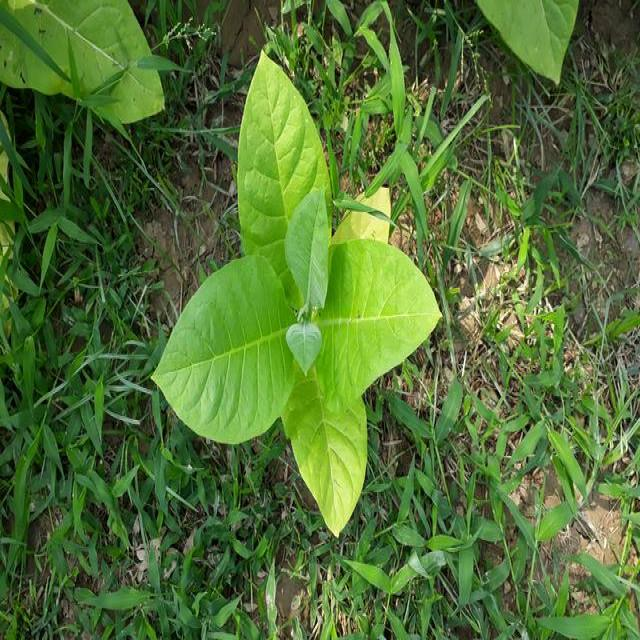crop: (138, 43, 452, 542)
